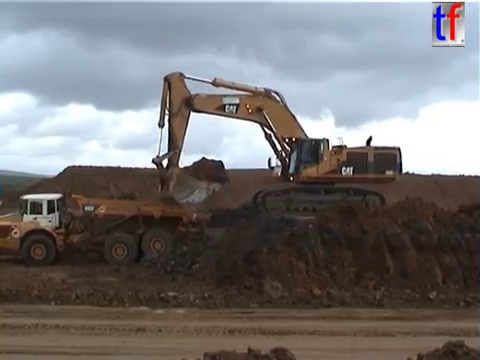excavator: (149, 69, 406, 221)
truck: (1, 191, 211, 268)
